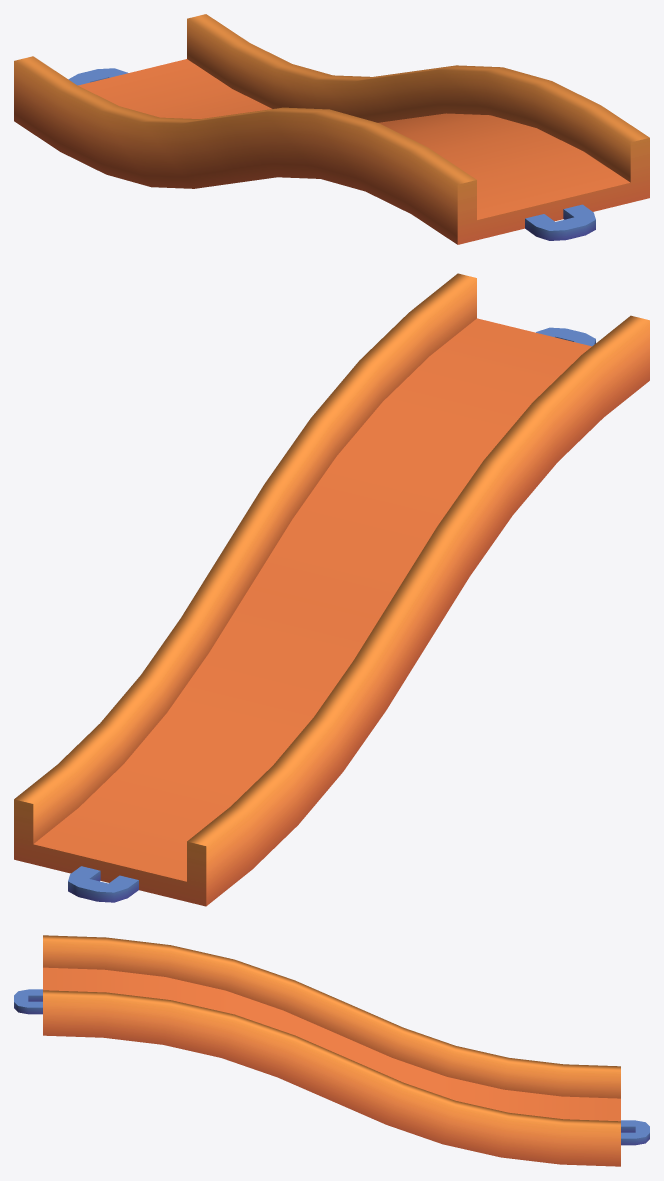
File: kenney-toy-car-track-narrow-straight-hill-complete.glb
3 views of the same model, one above another, from view 1: azimuth 30°, elevation 25°; view 2: azimuth 150°, elevation 25°; view 3: azimuth 270°, elevation 25° (orthographic). The views are drawn at different scales.
Visible parts, largest first — view 1: track-narrow-straight-hill-complete; view 2: track-narrow-straight-hill-complete; view 3: track-narrow-straight-hill-complete.
Boxes of the visible parts, x1,y1,x2,y2 form: track-narrow-straight-hill-complete: (14,14,649,244); track-narrow-straight-hill-complete: (14,273,649,906); track-narrow-straight-hill-complete: (14,935,649,1166).
Bounding box in the file's own units: 1 × 1.3 × 4.4.
Materials: 1 (1 with a texture image).
